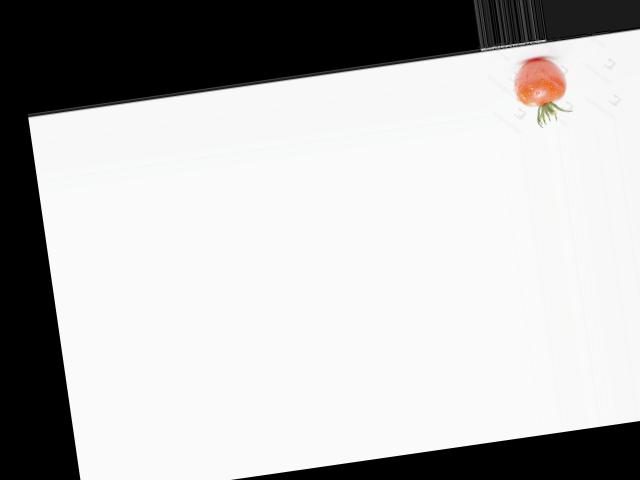tomato: (511, 55, 569, 107)
